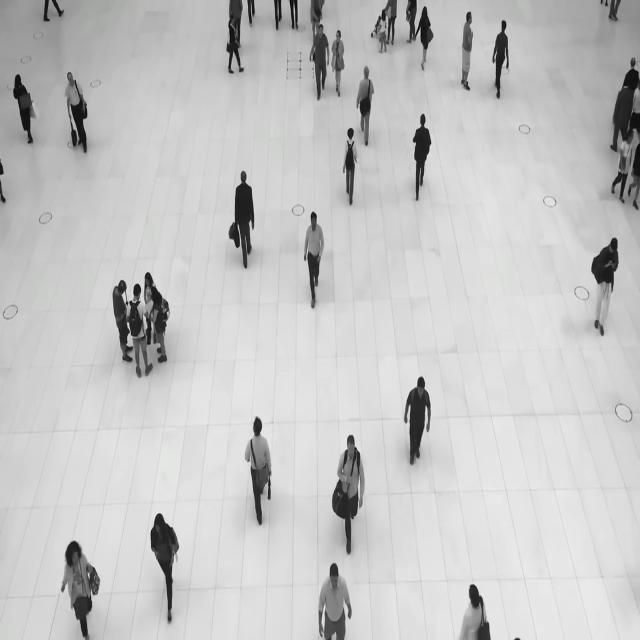Persona: (141, 493, 189, 633), (326, 429, 372, 562), (55, 528, 107, 640), (239, 402, 279, 532), (396, 363, 436, 475), (586, 225, 622, 344), (223, 165, 260, 273), (299, 204, 329, 317), (61, 62, 92, 168), (314, 560, 354, 640), (126, 280, 154, 384), (409, 105, 436, 210), (10, 67, 39, 155), (353, 60, 379, 152), (489, 14, 513, 107), (221, 6, 247, 82), (458, 2, 478, 98), (339, 120, 360, 210), (309, 20, 332, 101), (413, 4, 438, 76), (328, 25, 348, 98)
